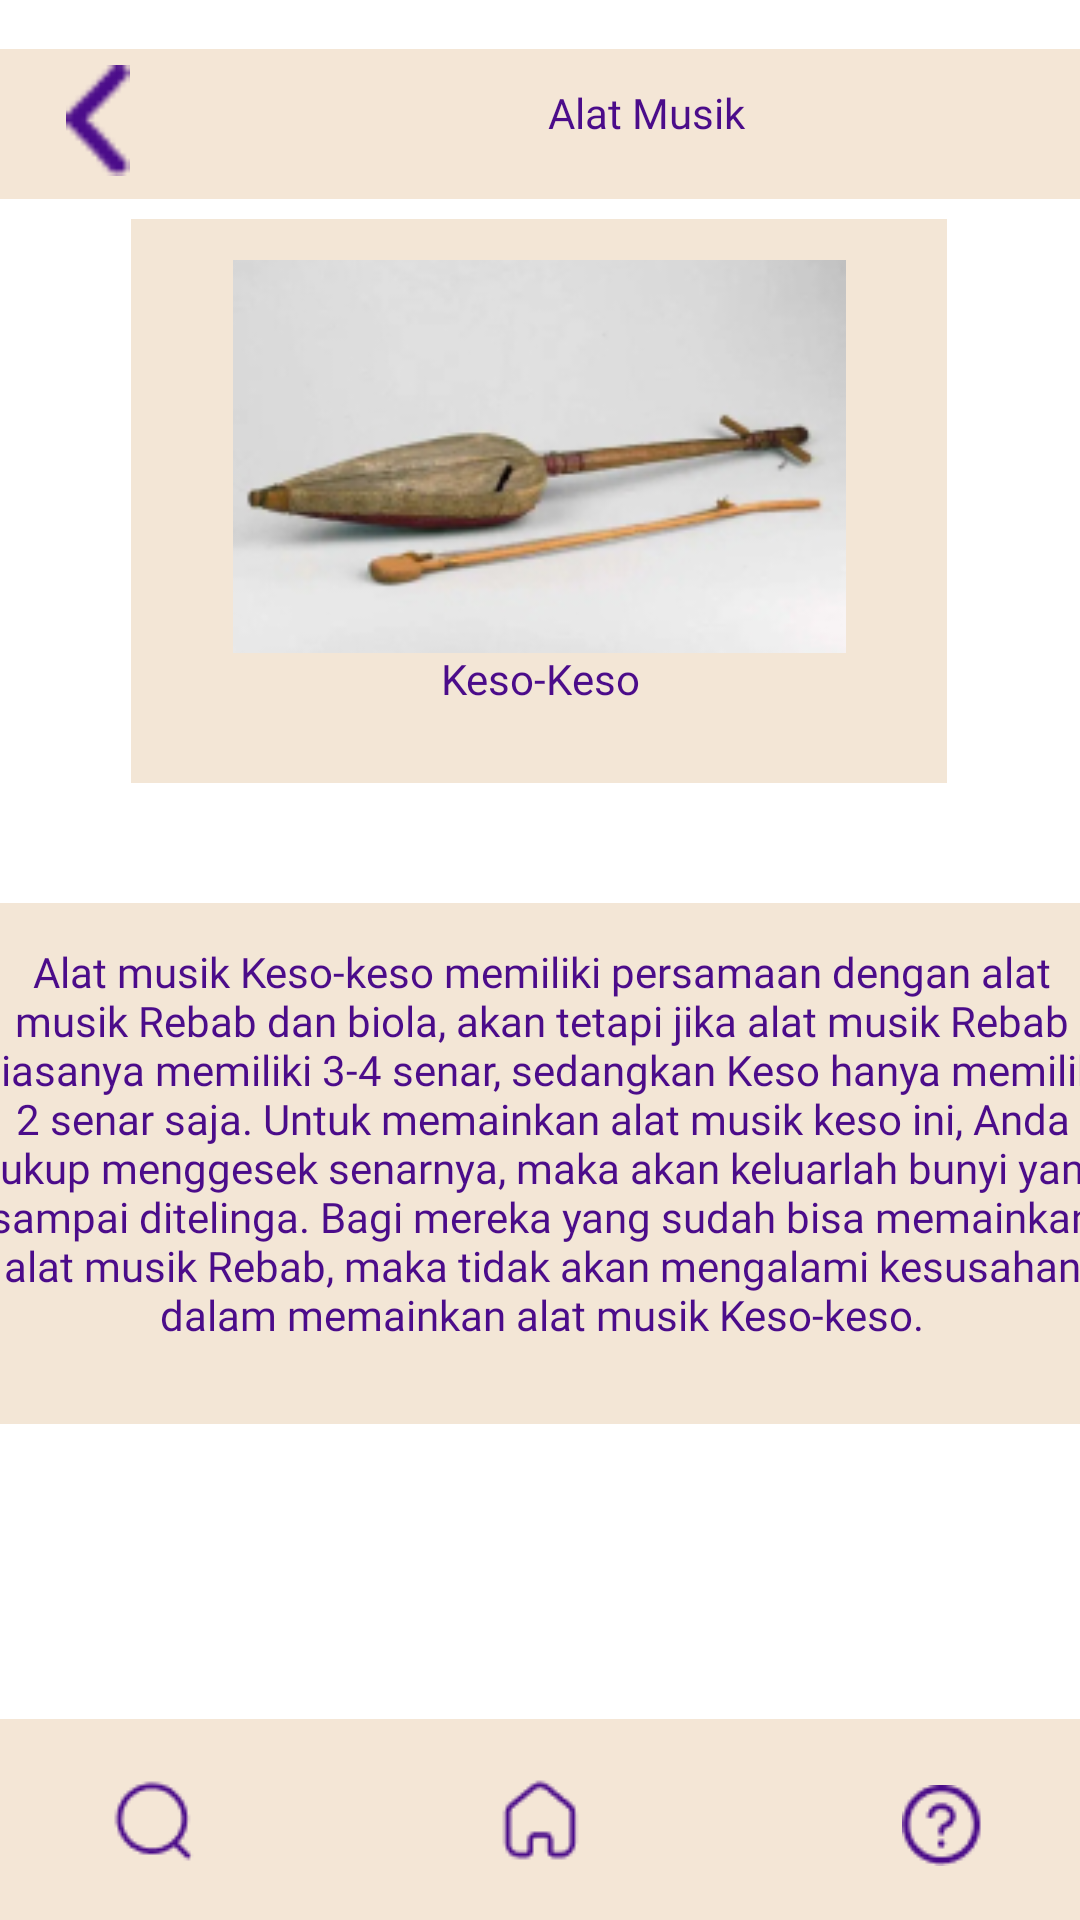

Locate icon controls on the screen. Image size 1080 x 1920, boxes as (x1, y1, x2, y2).
homeee: (503, 1780, 577, 1860)
xearch: (114, 1781, 191, 1861)
